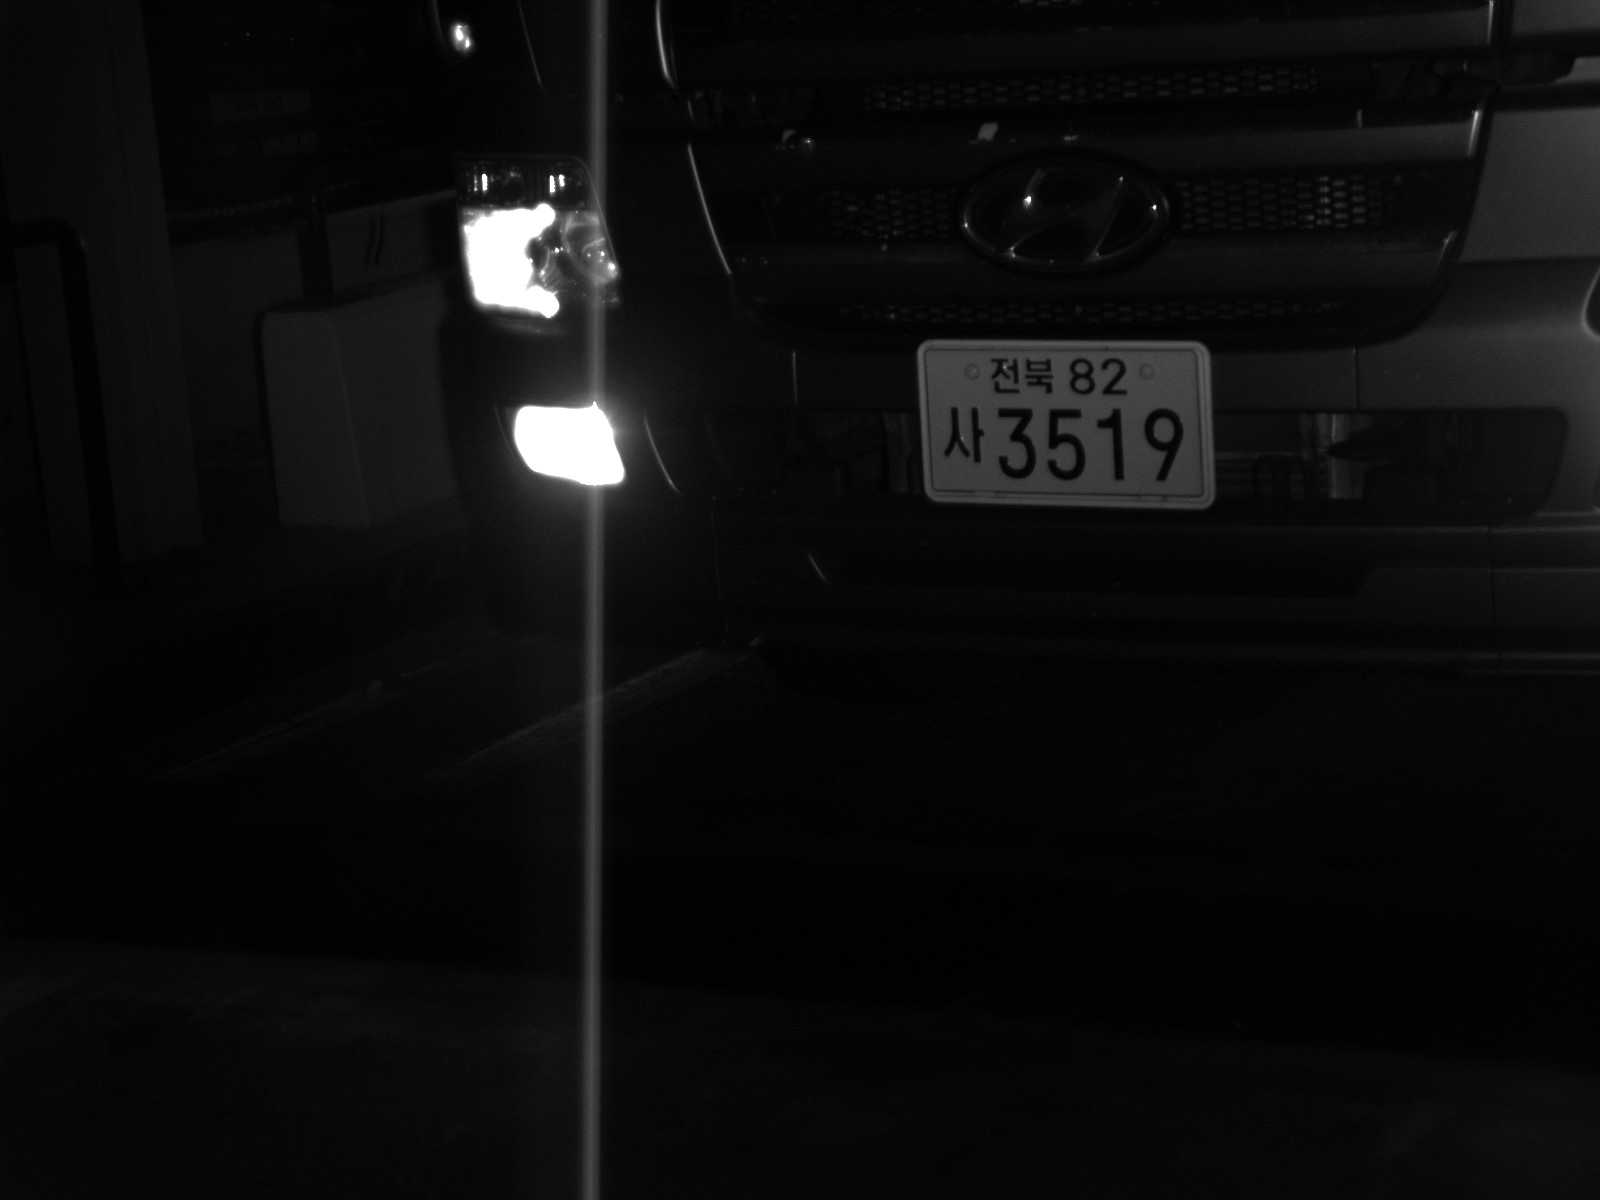car: (435, 2, 1600, 780)
plate: (914, 333, 1217, 512)
